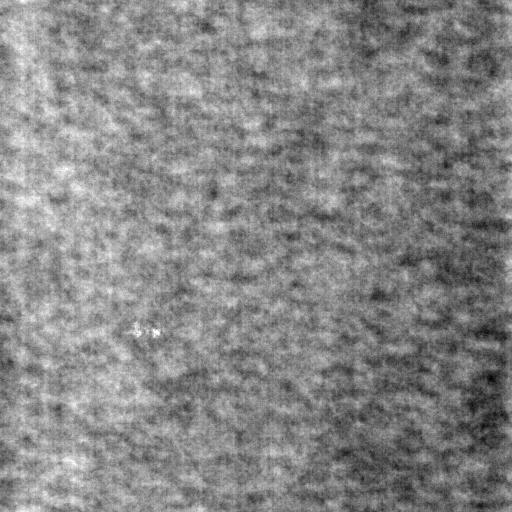DefectTypeA: (121, 320, 165, 341)
